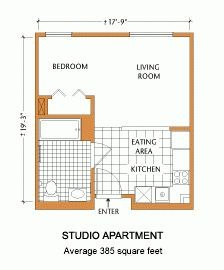door: (94, 165, 126, 199), (89, 138, 113, 169), (50, 82, 85, 101)
room: (35, 33, 190, 98), (93, 125, 195, 211), (38, 118, 93, 209), (92, 97, 190, 128)
wall: (186, 26, 200, 214), (30, 28, 42, 214), (30, 197, 97, 215), (130, 199, 196, 215), (32, 109, 99, 124), (71, 28, 131, 43), (78, 105, 98, 146), (86, 167, 101, 210), (168, 119, 197, 135), (171, 25, 195, 41), (120, 190, 136, 202), (33, 92, 52, 101), (85, 91, 98, 101)
